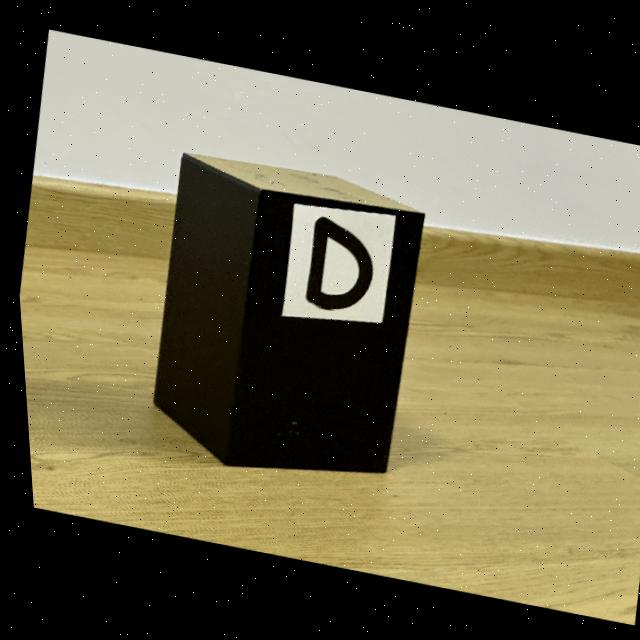D: (301, 215, 369, 308)
